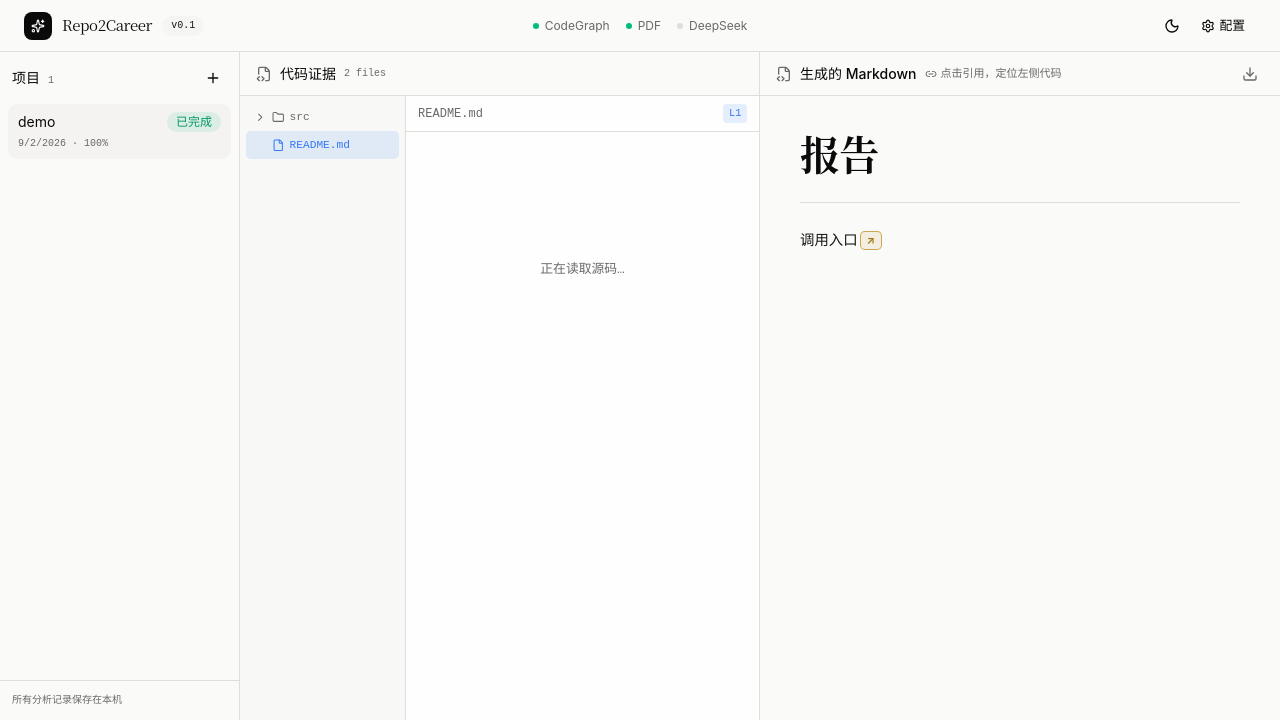
Test: jumps from a report citation to the referenced code tree node and lines
The image size is (1280, 720).
Click the button named "查看证据": {"x": 871, "y": 240} [860,231,882,250]
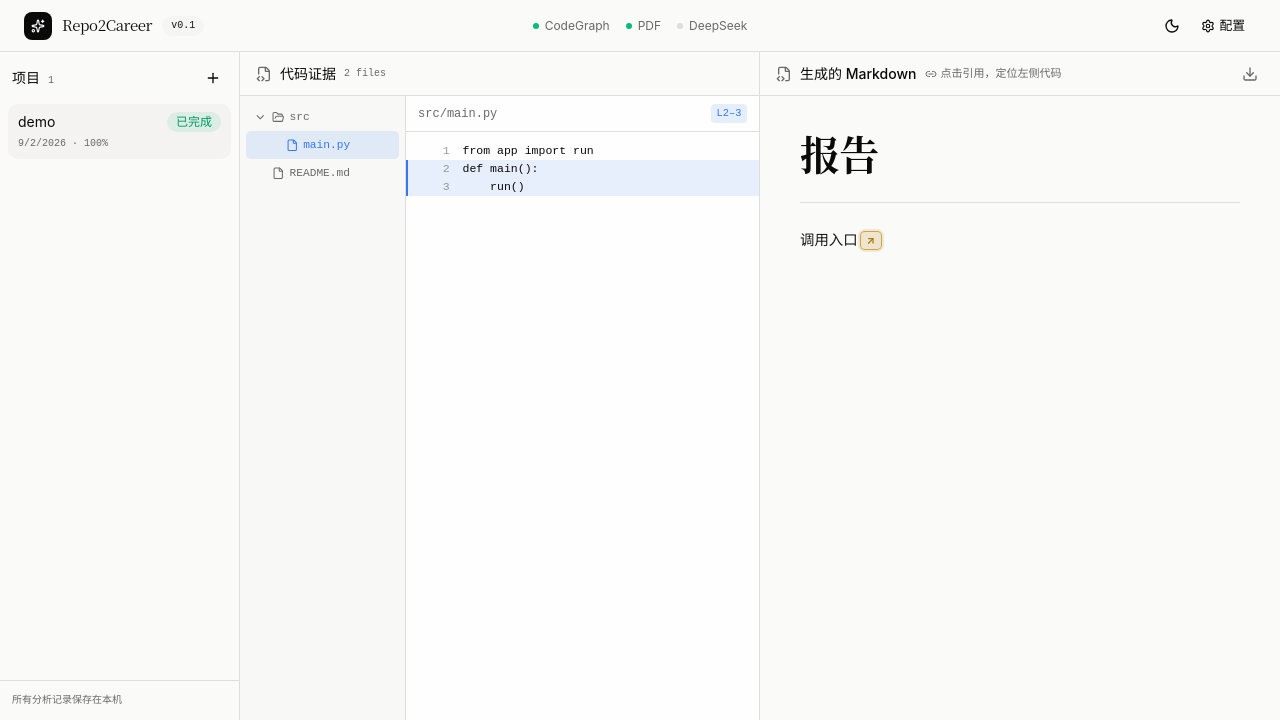
Expected: the text "src/main.py" is shown, [418,106,497,122]
Expected: the button titled "src" is expanded, [246,103,400,131]
